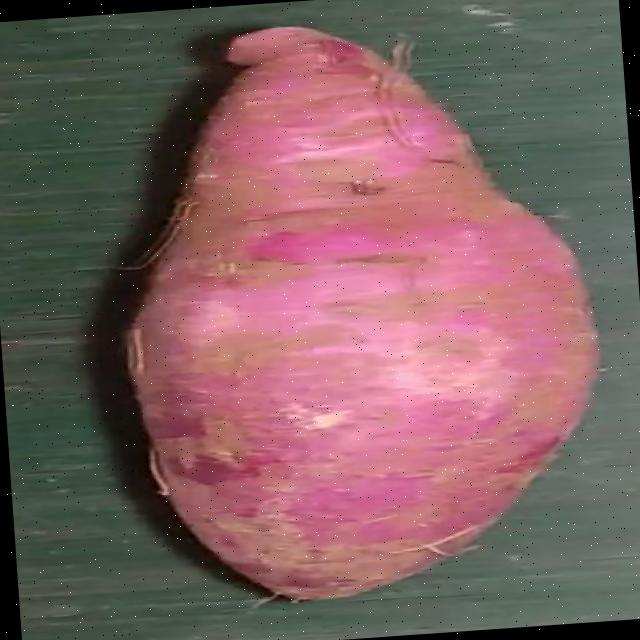Sweet Potato: (129, 26, 603, 603)
